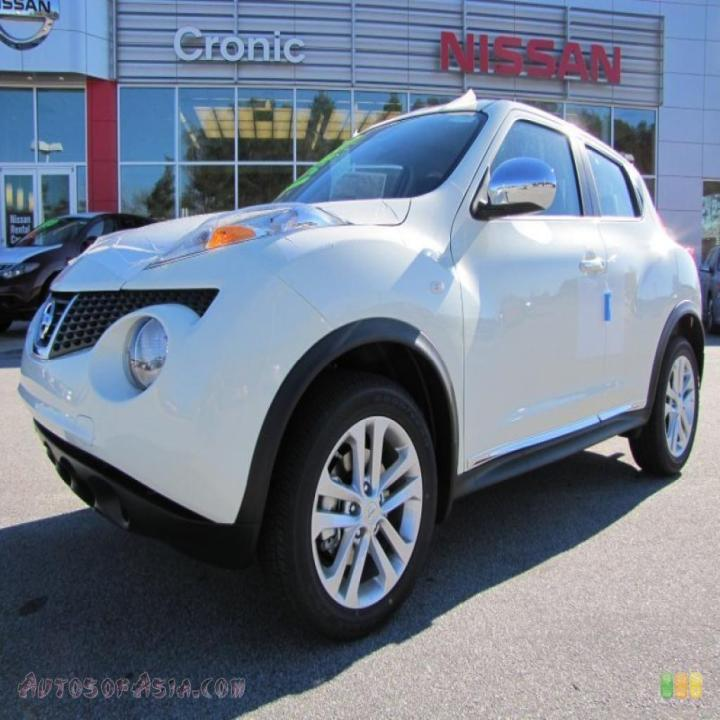car: (18, 87, 705, 641), (0, 210, 162, 332), (698, 244, 719, 334)
